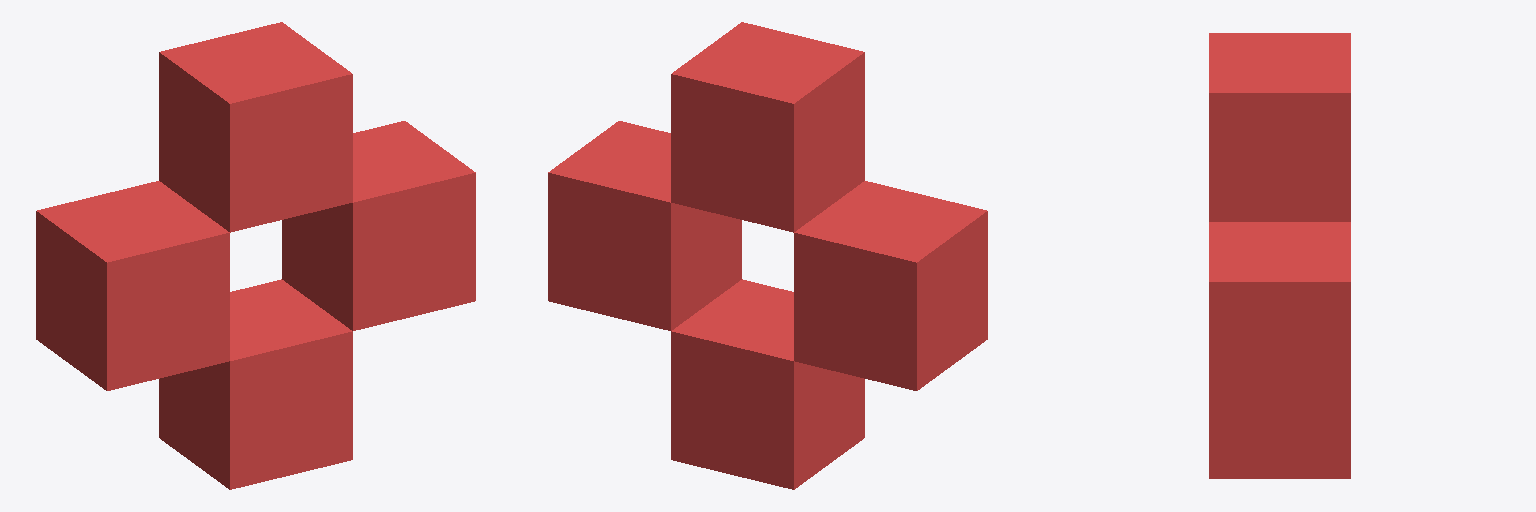
3 views of the same model, side by side, from view 1: azimuth 30°, elevation 25°; view 2: azimuth 150°, elevation 25°; view 3: azimuth 270°, elevation 25° (orthographic).
Parts seen in each view (by area): view 1: object 1; view 2: object 1; view 3: object 1.
Boxes of the visible parts, box(x1,y1,x2,y2) form: object 1: box(36, 22, 475, 489); object 1: box(548, 22, 987, 489); object 1: box(1209, 33, 1350, 478).
Bounding box in the file's own units: 0.3 × 0.3 × 0.1.
Materials: 1 (1 with a texture image).